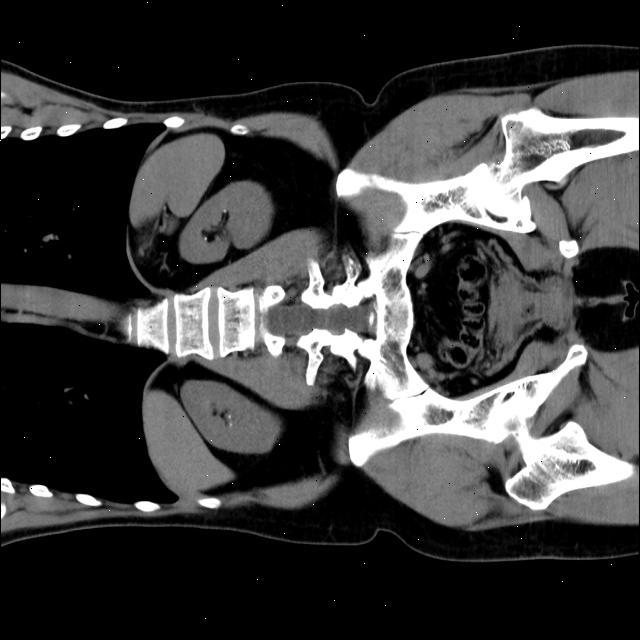kidneystone: (222, 414, 231, 428)
